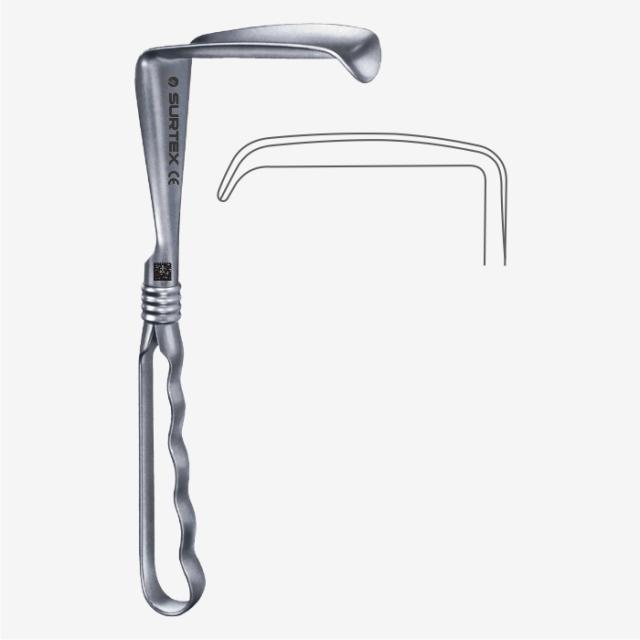Kelly Retractor: (124, 14, 384, 624)
